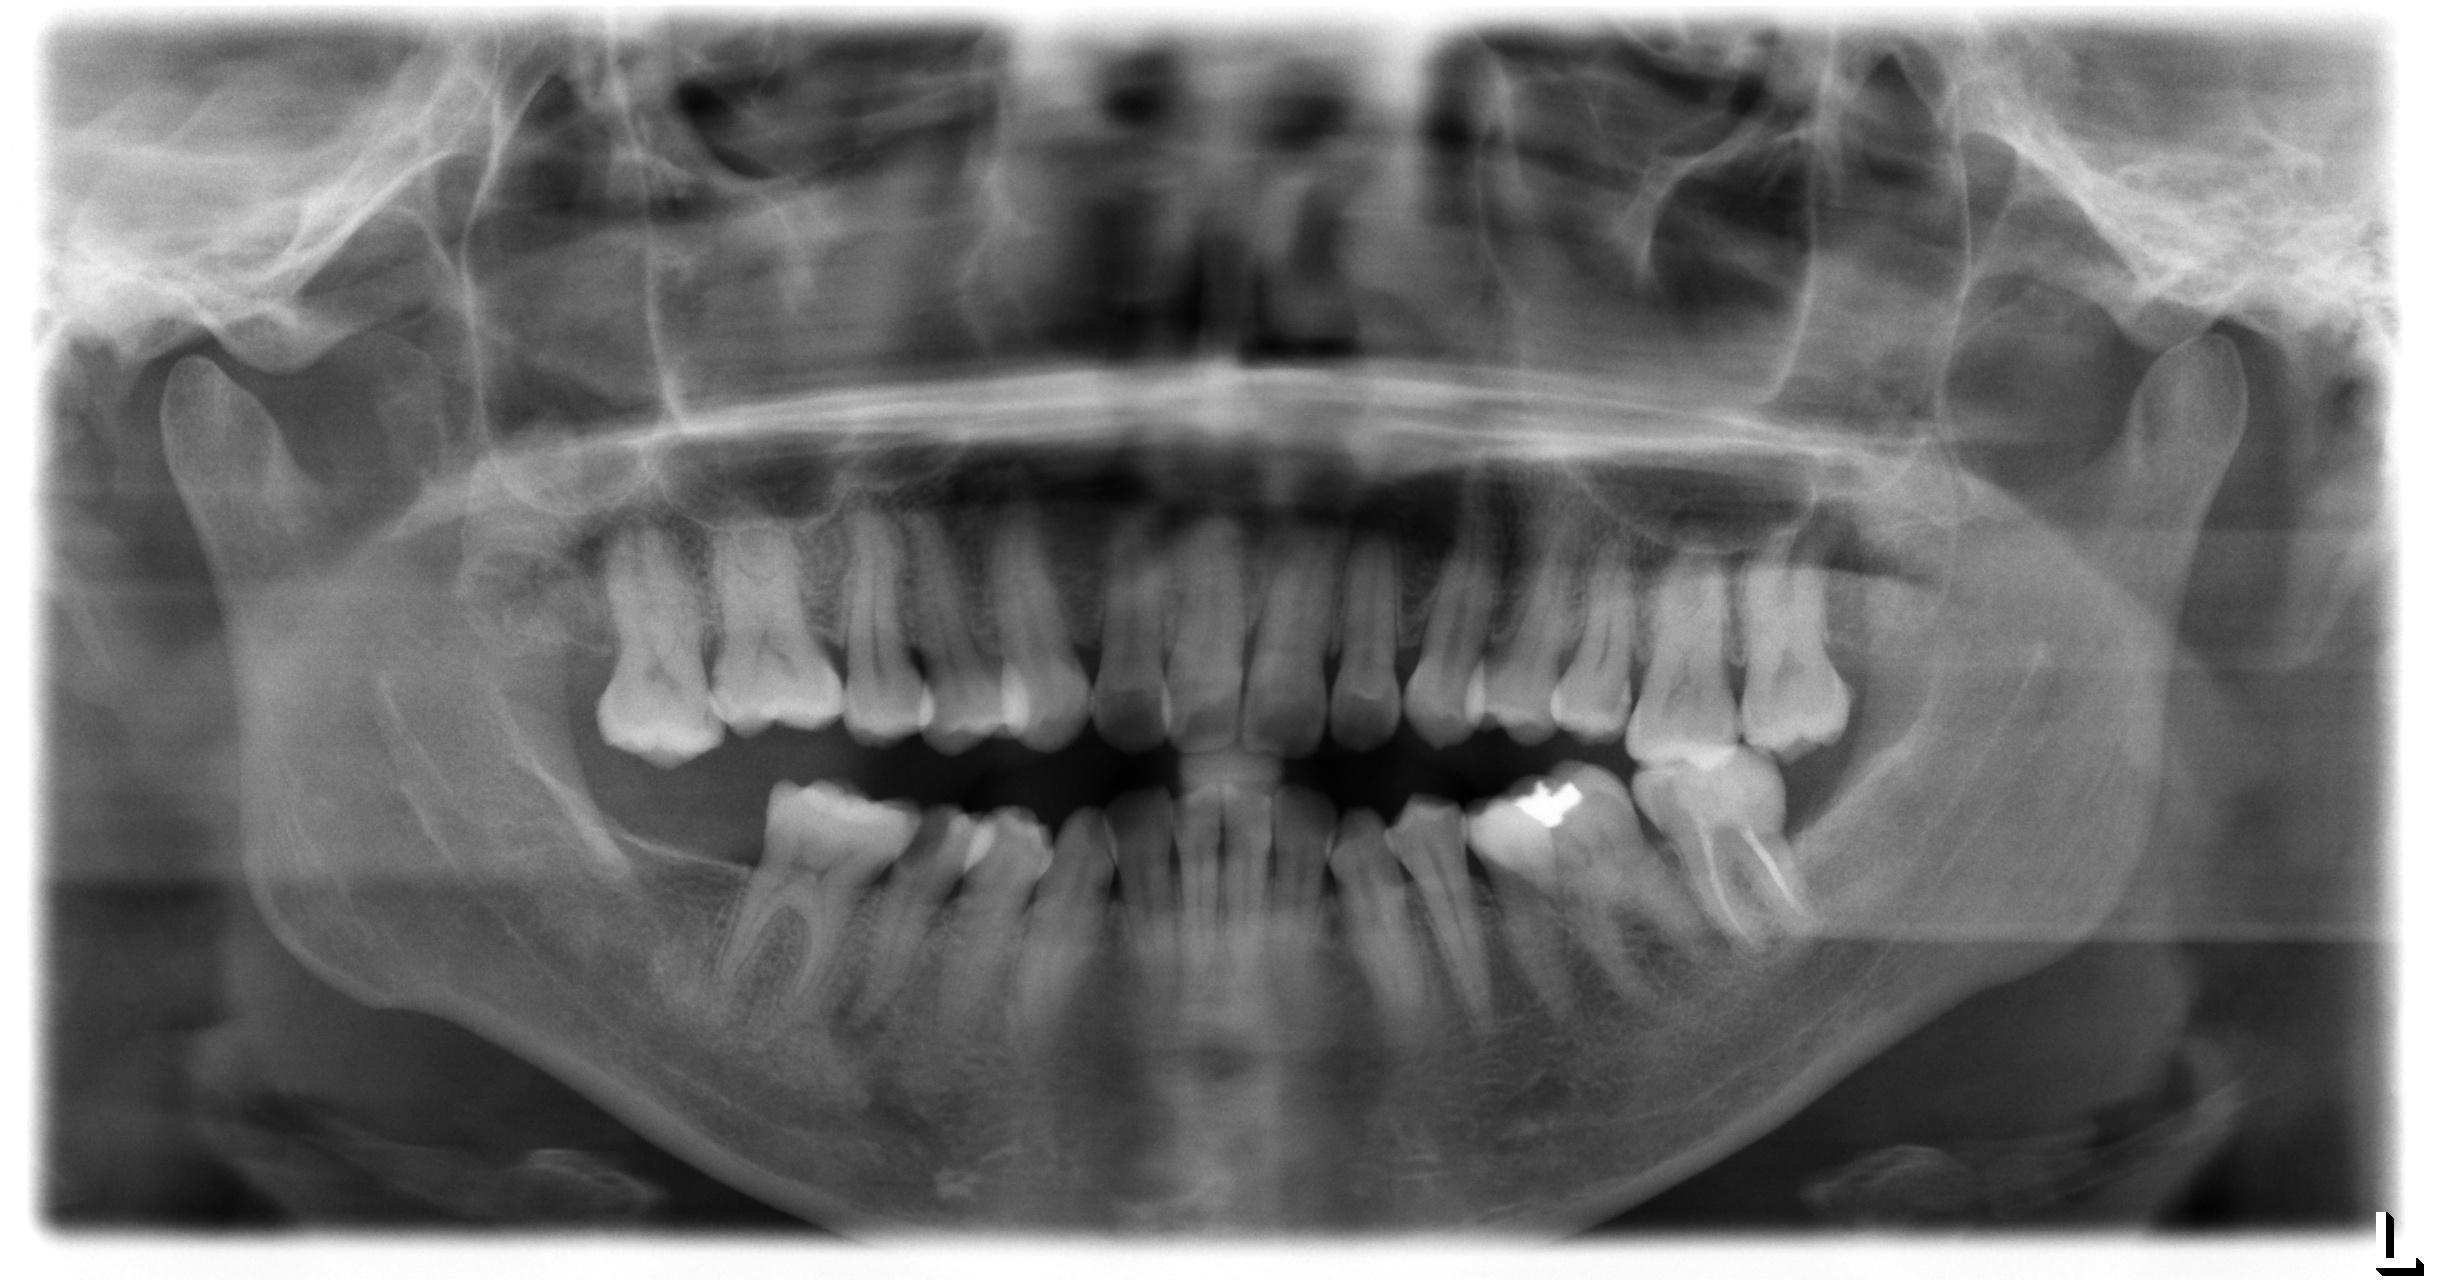Decay: (892, 796, 963, 876)
